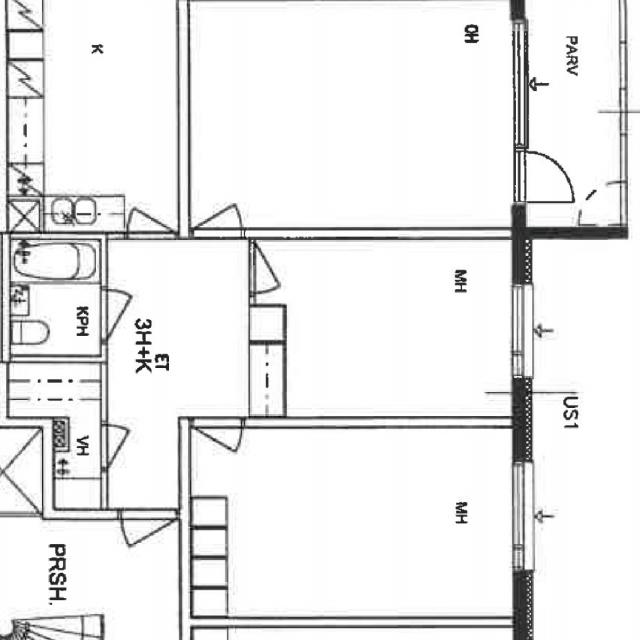door: (121, 508, 177, 576), (512, 152, 572, 200), (193, 416, 241, 476), (100, 290, 157, 340), (194, 180, 239, 238), (249, 244, 302, 291), (128, 184, 174, 238), (100, 425, 147, 466)
